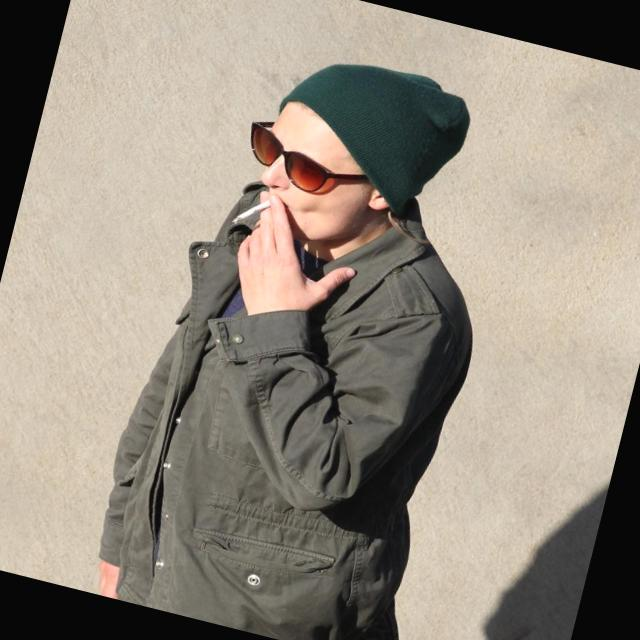cigarette: (215, 180, 282, 245)
